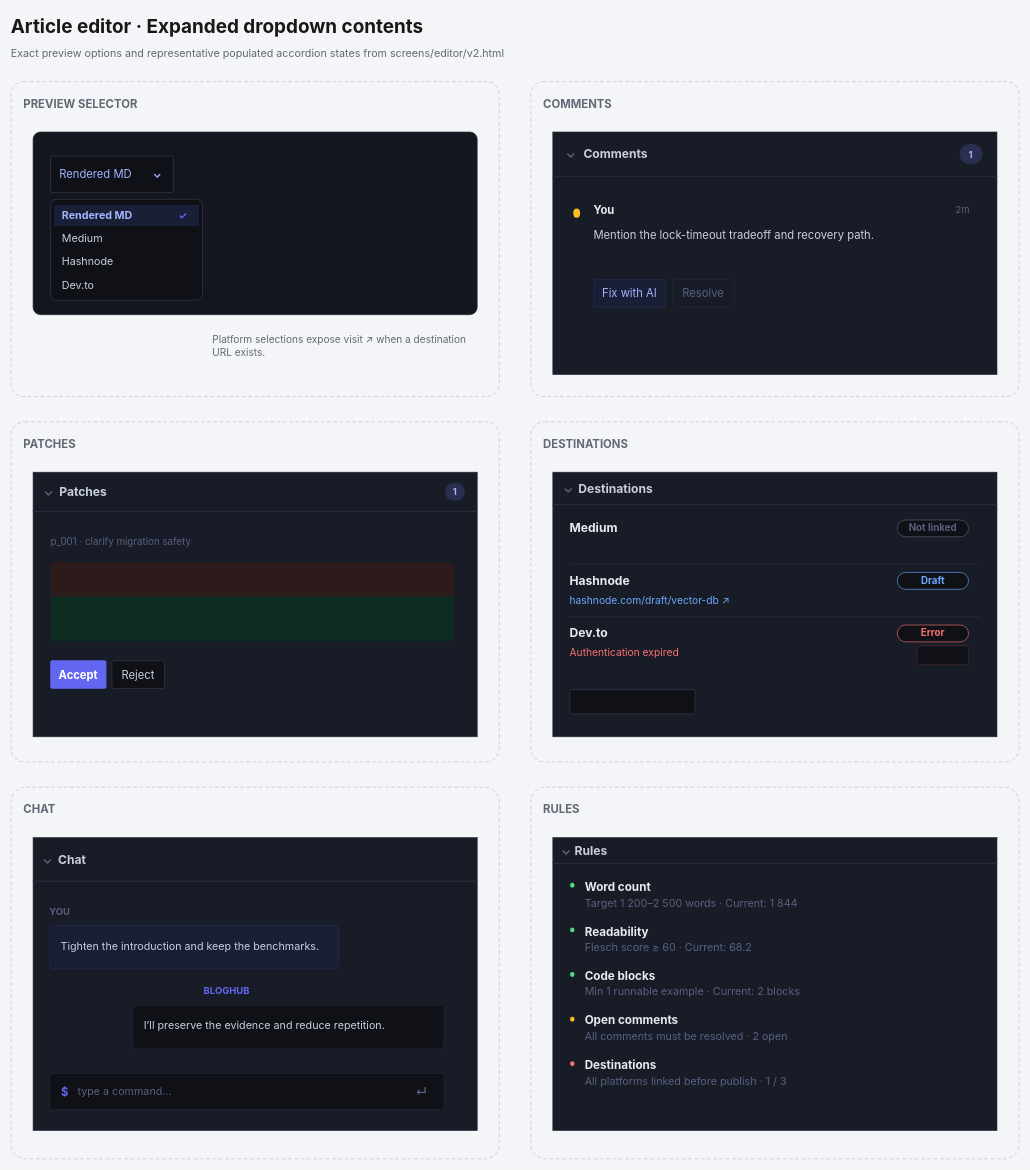
Some shapes in this 1030 by 1170 pixel diagram are drawn without their labels. Here are the shapes that lost their labels. From the top down, the centre of each, then its label:
At point (252, 579): "− Run pg_repack during the migration.".
At point (252, 618): "+ Test pg_repack under load, then document the rollback path.".
At point (942, 655): "Retry".
At point (632, 701): "⌕ Run inspection".
